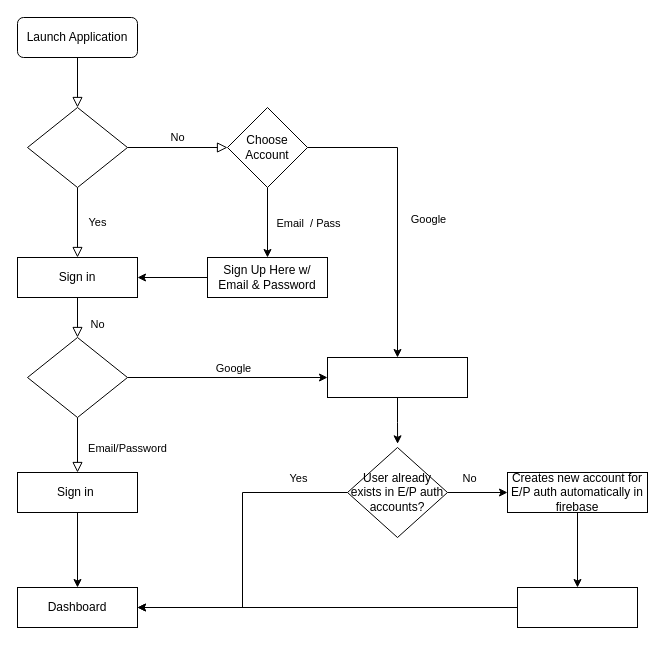
The diagram is 665 pixels wide and 645 high, and some of its shapes have lost their labels. The centre of each missing label's shape, as x and y in pixels:
Has Account?: the point at 77,147
Links both accounts: the point at 577,607
Sign in w/ Google: the point at 397,377
What method?: the point at 77,377
